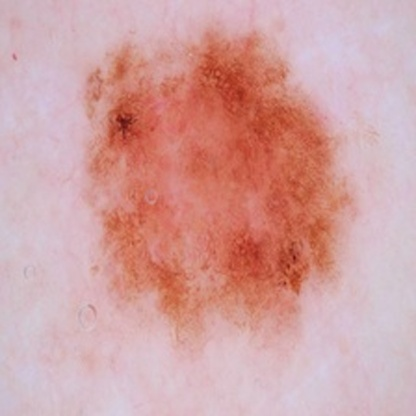benign: (102, 71, 318, 295)
